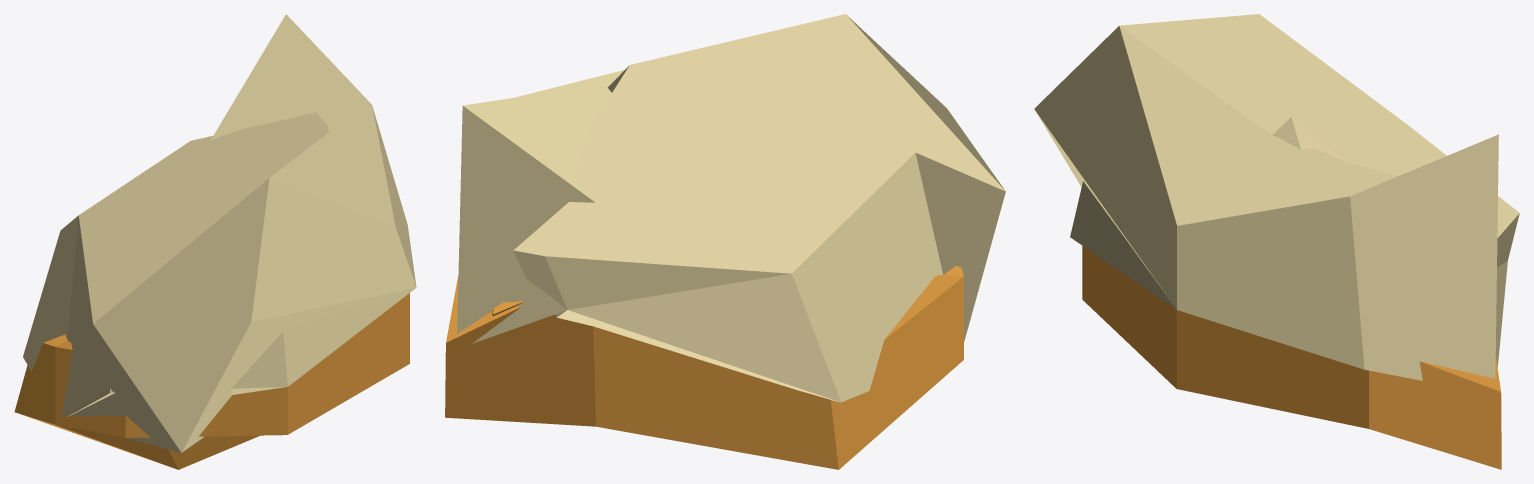
File: BreadCrumb.gltf
3 renders of one model, left to right at view 1: azimuth 30°, elevation 25°; view 2: azimuth 150°, elevation 25°; view 3: azimuth 270°, elevation 25°, orthographic. The views are drawn at different scales.
Visible parts, largest first — view 1: Plane.001, Plane; view 2: Plane, Plane.001; view 3: Plane, Plane.001.
Boxes of the visible parts, x1,y1,x2,y2 form: Plane.001: (19,112,416,469); Plane: (14,14,416,437); Plane: (445,70,963,469); Plane.001: (492,14,1005,401); Plane: (1070,26,1507,469); Plane.001: (1034,14,1519,309).
Size of the model in its own units: 0.0153 by 0.0107 by 0.0141.
